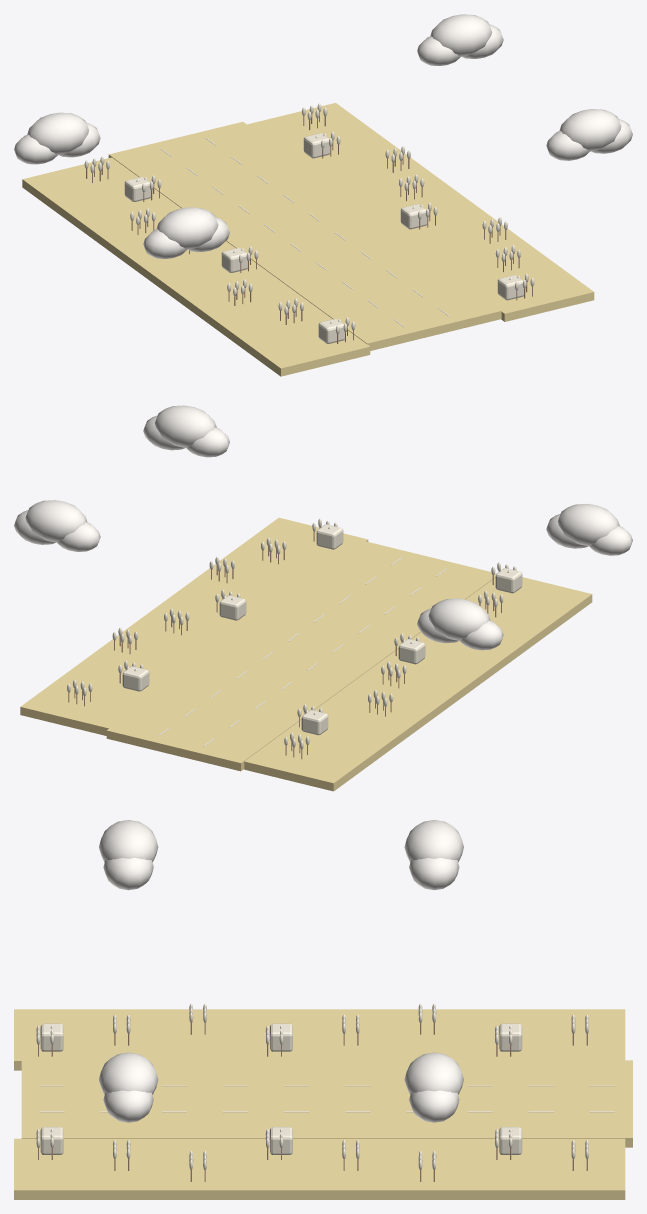
File: hi3d-hi3d-runner-wheat-0-D2yBPaYC.glb
3 renders of one model, top to bottom at view 1: azimuth 30°, elevation 25°; view 2: azimuth 150°, elevation 25°; view 3: azimuth 270°, elevation 25°, orthographic. The views are drawn at different scales.
Parts seen in each view (by area): view 1: ENV_MAT_gold.001, ENV_MAT_white, ENV_MAT_cream.001, ENV_MAT_wood.001; view 2: ENV_MAT_gold.001, ENV_MAT_white, ENV_MAT_cream.001, ENV_MAT_wood.001; view 3: ENV_MAT_gold.001, ENV_MAT_white, ENV_MAT_cream.001, ENV_MAT_wood.001.
Part boxes in pixels (x1,y1,x2,y2): ENV_MAT_gold.001: [22, 103, 594, 376]; ENV_MAT_white: [14, 14, 632, 327]; ENV_MAT_cream.001: [84, 103, 534, 343]; ENV_MAT_wood.001: [86, 112, 532, 343]; ENV_MAT_gold.001: [20, 517, 592, 791]; ENV_MAT_white: [14, 405, 632, 746]; ENV_MAT_cream.001: [67, 518, 522, 749]; ENV_MAT_wood.001: [68, 527, 501, 759]; ENV_MAT_gold.001: [14, 1009, 632, 1199]; ENV_MAT_white: [39, 820, 614, 1122]; ENV_MAT_cream.001: [36, 1003, 588, 1170]; ENV_MAT_wood.001: [38, 1023, 587, 1181].
Size of the model in its own units: 43.4 by 12.11 by 40.5.
